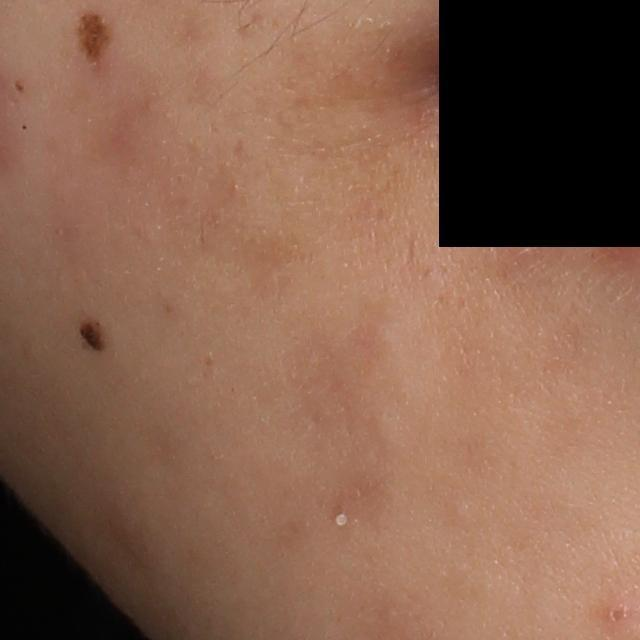comedo: (11, 78, 29, 95), (18, 121, 31, 133)
nevus: (73, 9, 115, 71), (76, 318, 115, 357)
